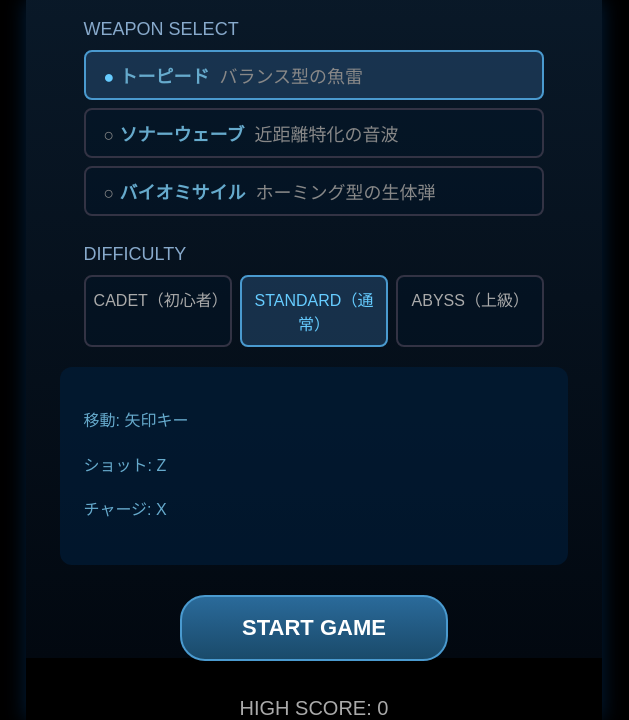
it: DeepSeaShooterPage › GAME STARTボタンをクリックするとゲームが開始すること
(page scrolled)
Note: 実際のボタンテキストは "START GAME"
Click the button "START GAME" at (314, 628), box [180,595,448,661]
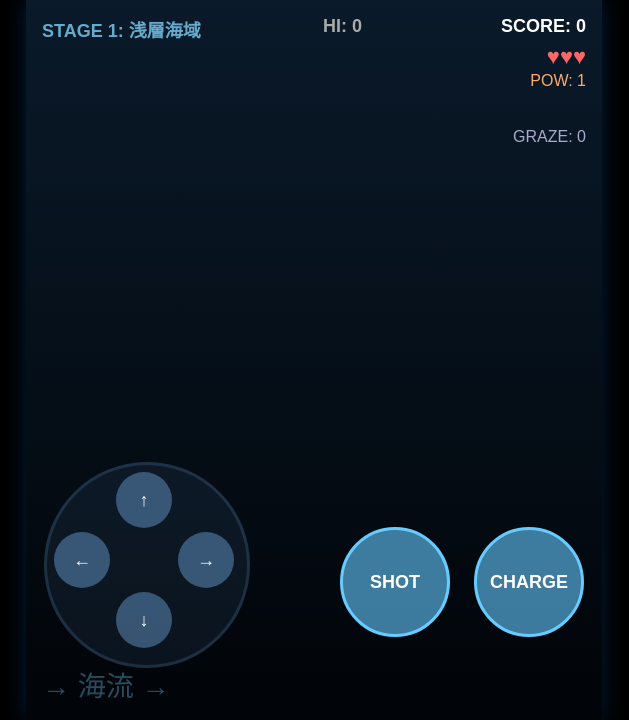
Check: the button "START GAME" is gone
